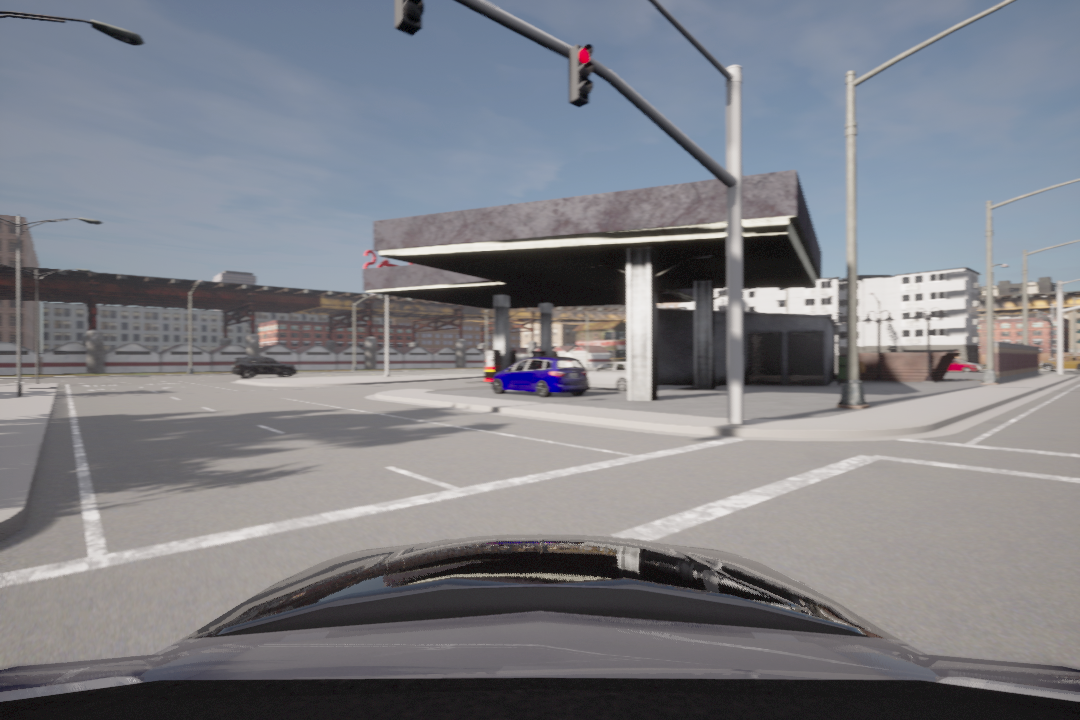TrafficLight: (567, 44, 596, 102)
